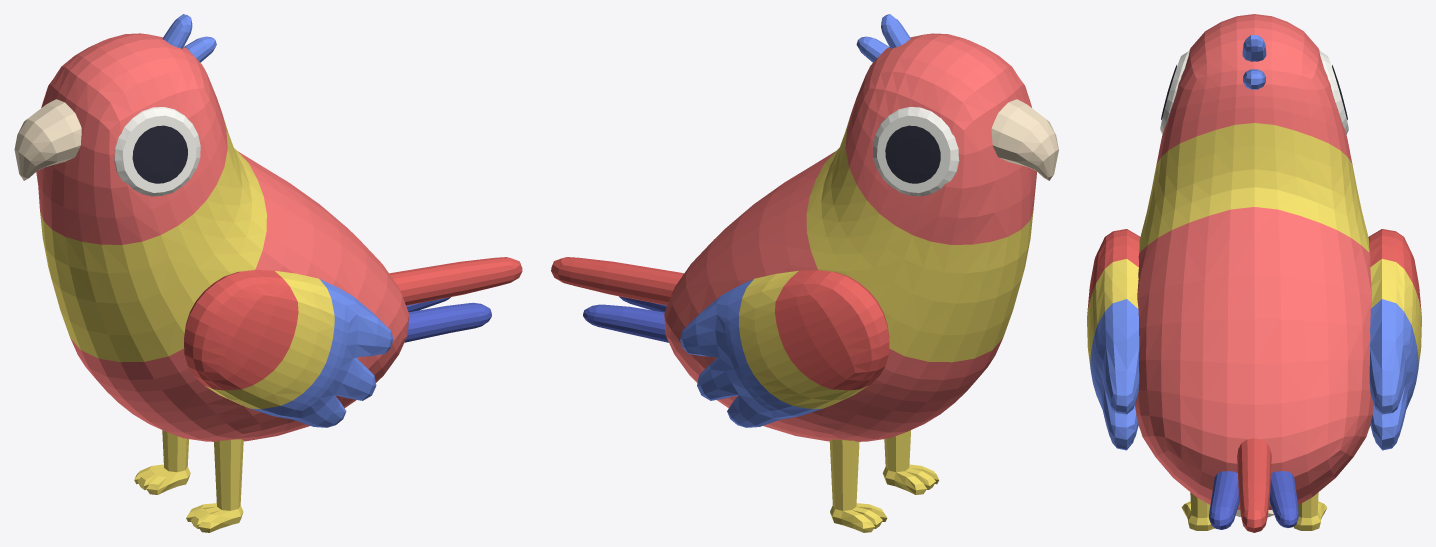
The model's file is Parrot_LOD0.fbx.
The picture shows the model from 3 angles, left to right: view 1: azimuth 30°, elevation 25°; view 2: azimuth 150°, elevation 25°; view 3: azimuth 270°, elevation 25°; orthographic projection.
Parts seen in each view (by area): view 1: Mesh; view 2: Mesh; view 3: Mesh.
Part boxes in pixels (x1,y1,x2,y2): Mesh: [14, 14, 522, 532]; Mesh: [551, 14, 1058, 532]; Mesh: [1087, 14, 1421, 532].
Bounding box in the file's own units: 205 × 190 × 119.
1 material, 1 textured.
